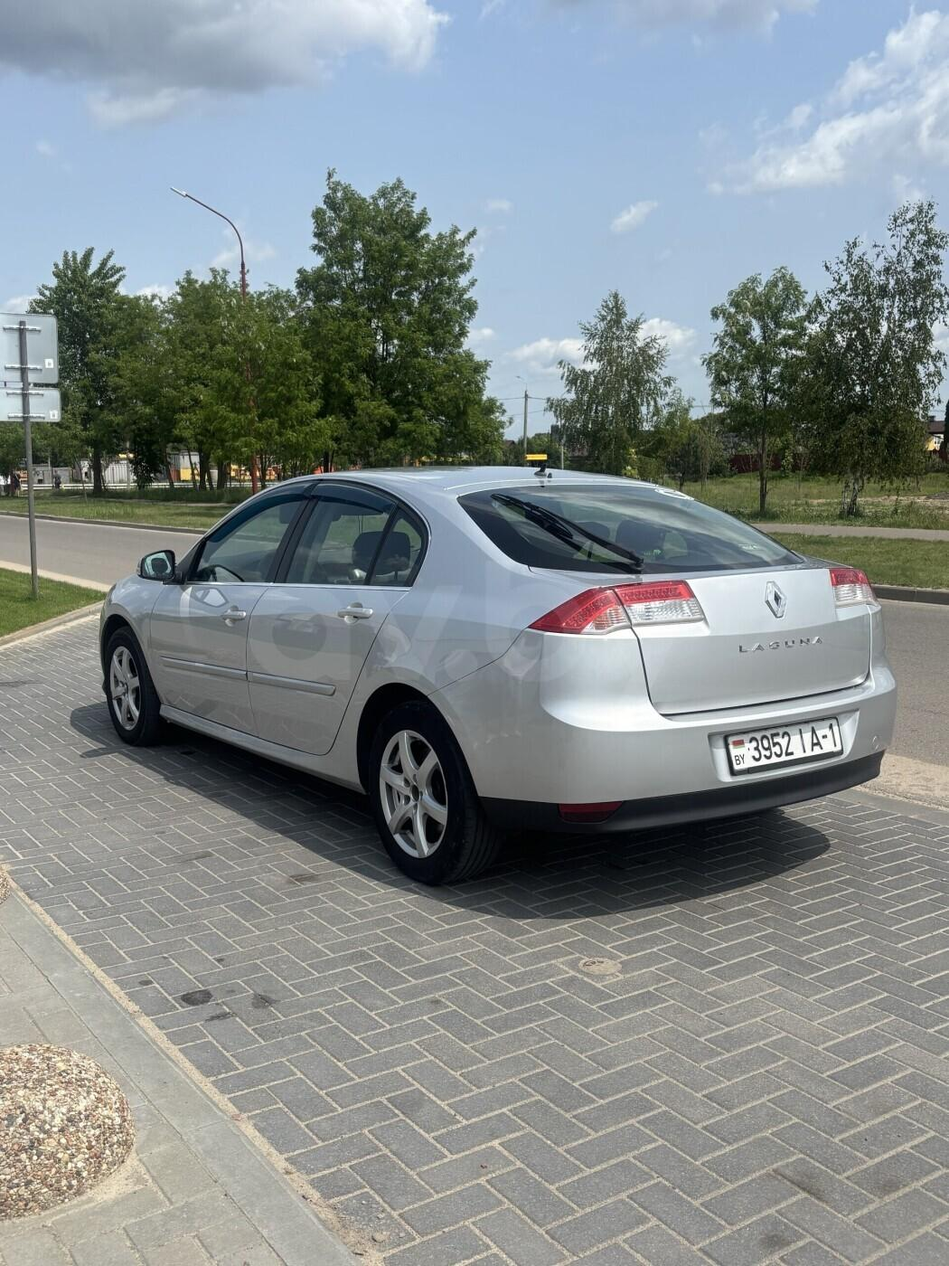Laguna_2007-2011: (99, 468, 896, 884)
